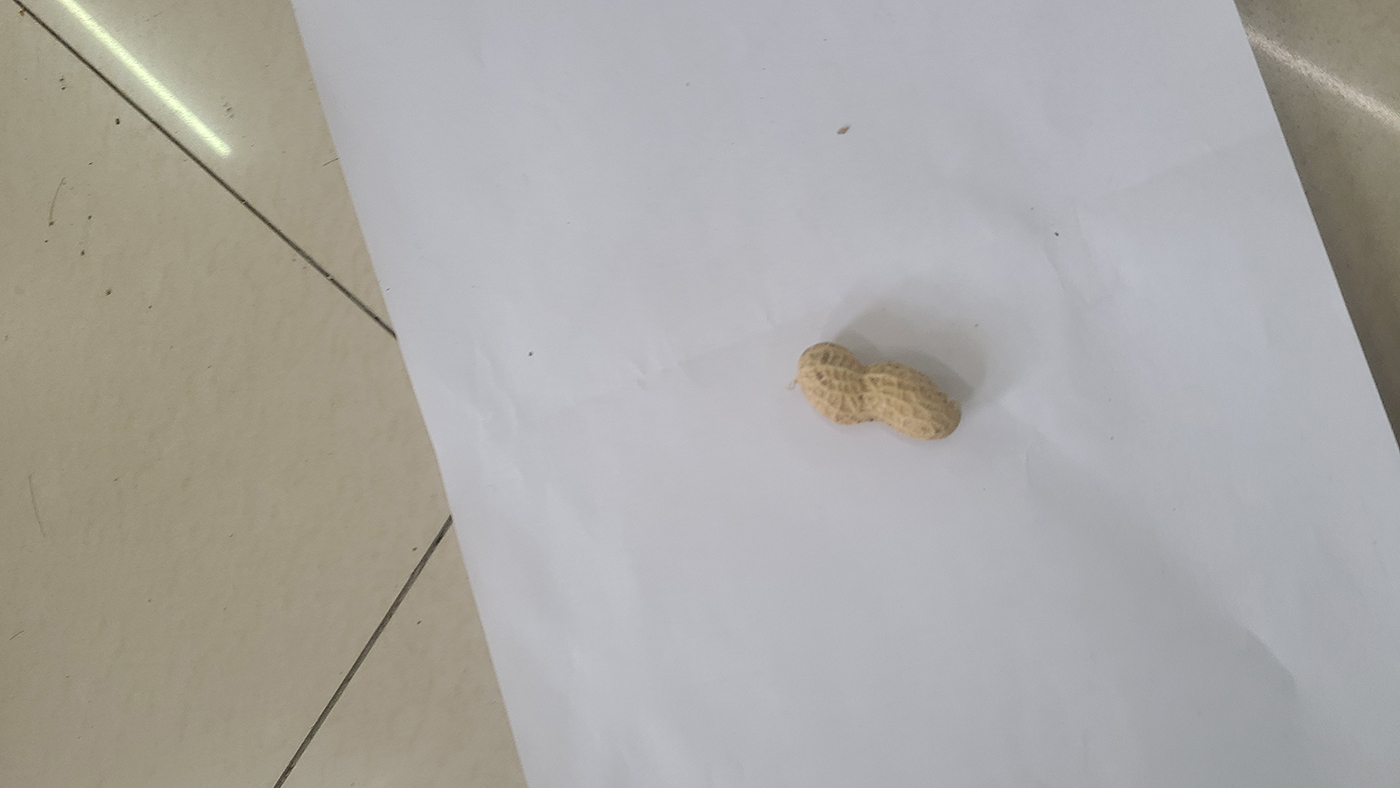h: (798, 340, 963, 441)
